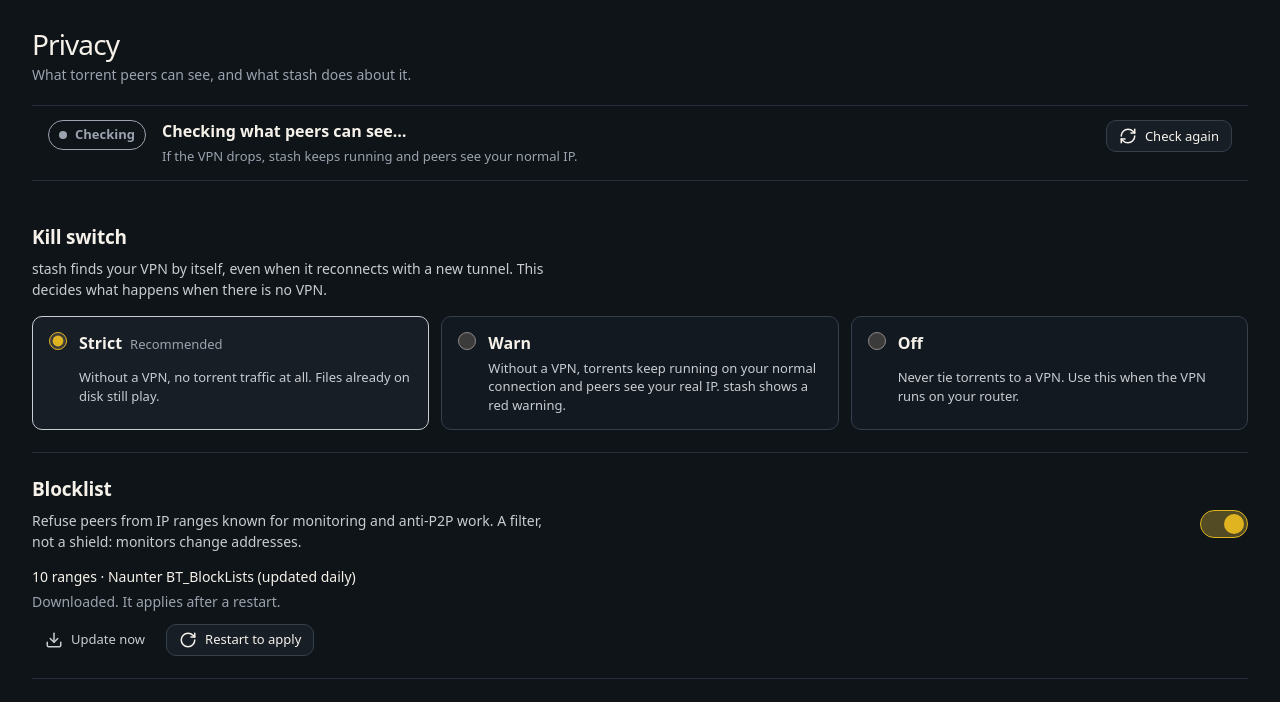
Scenario: Privacy page › Restart to apply is refused while there are unsaved changes
The width and height of the screenshot is (1280, 702).
Click the radio button labelled "Warn" at (467,341), box [458, 332, 476, 350]
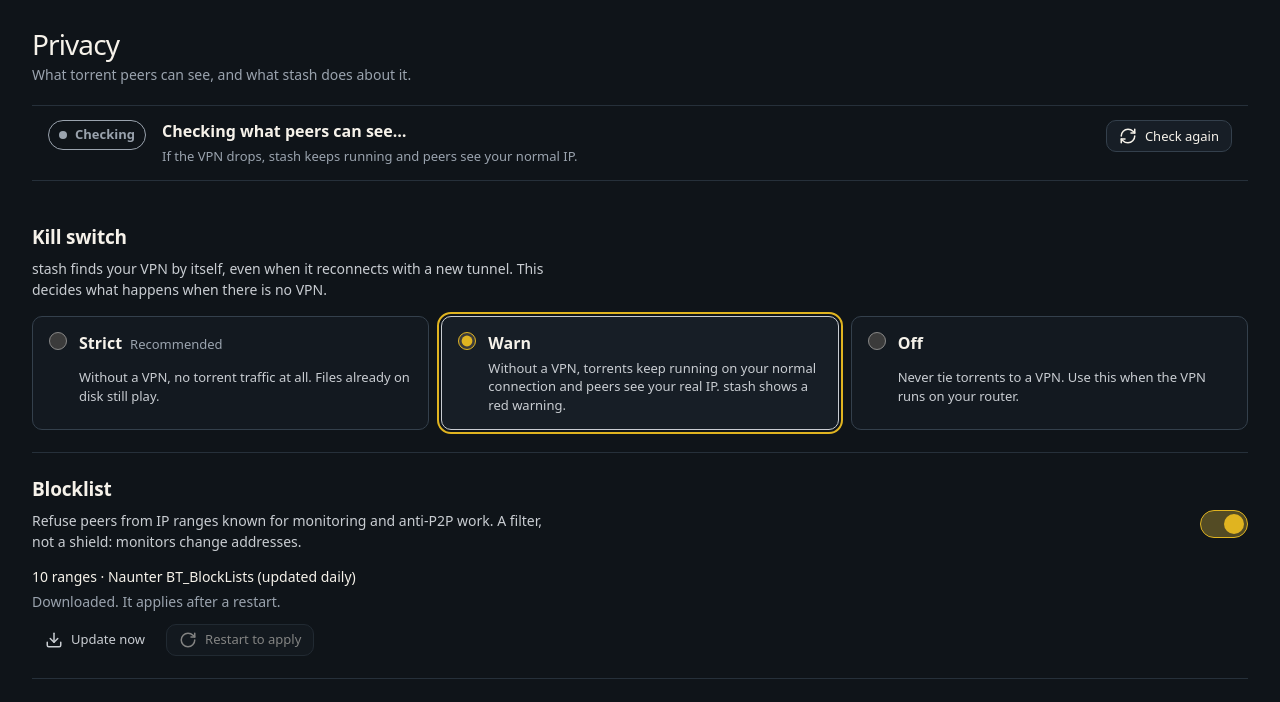
expect the button "Restart to apply" is disabled: met, box [166, 624, 314, 656]
